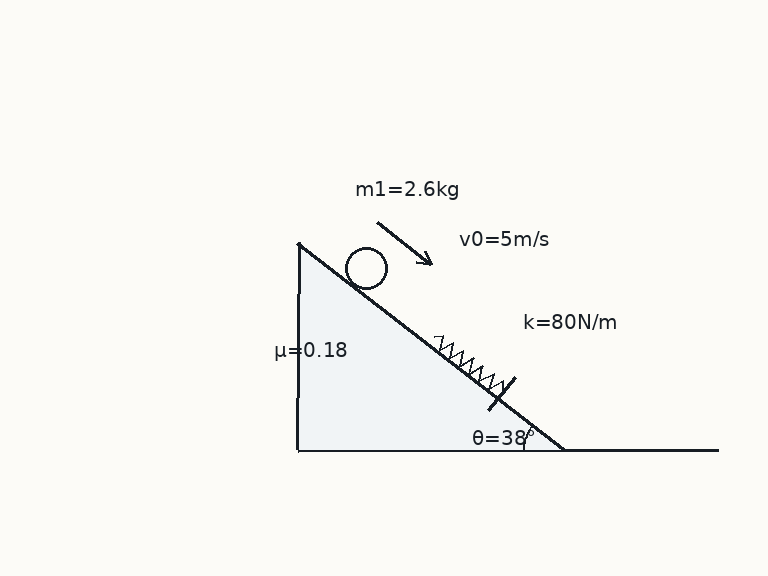ball: (343, 245, 389, 291)
ramp: (296, 241, 566, 452)
spring: (432, 333, 505, 393)
